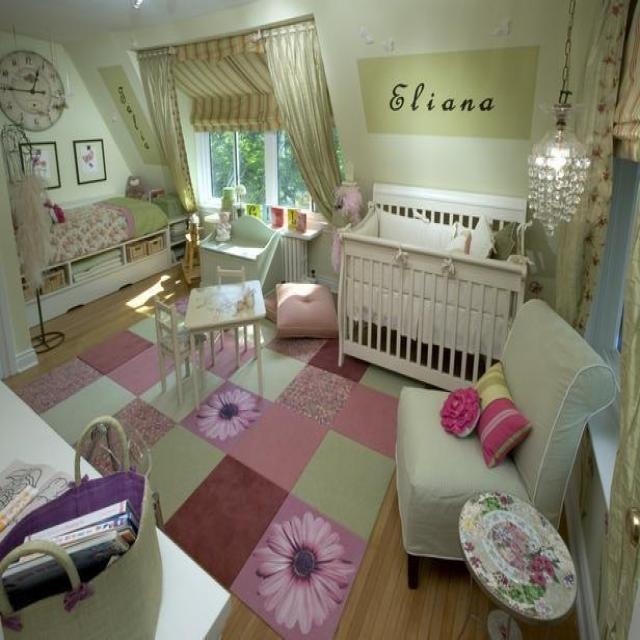carpet: (5, 294, 433, 638)
clock: (0, 48, 65, 131)
crib: (334, 180, 531, 392)
lamps: (526, 0, 592, 237)
pillows: (474, 360, 532, 468)
sofa: (394, 296, 617, 589)
table: (457, 488, 577, 626), (183, 278, 266, 410)
